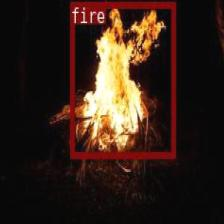fire: (69, 1, 174, 157)
